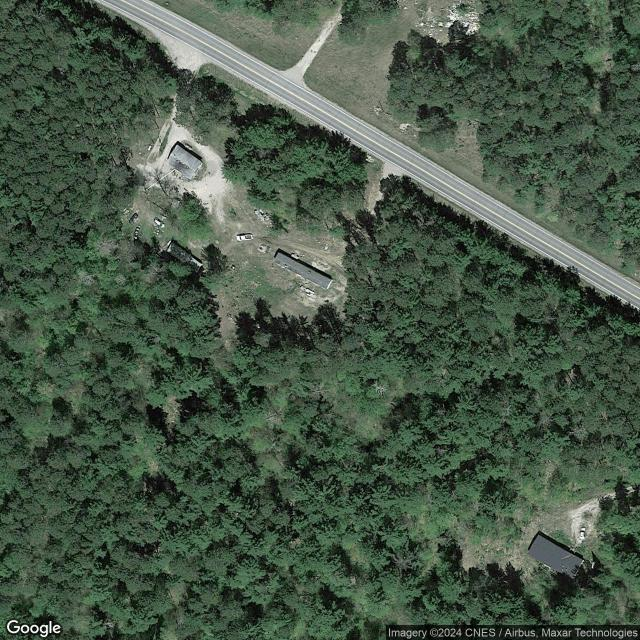Propane: (590, 560, 596, 570), (146, 144, 152, 152), (166, 240, 172, 247)
